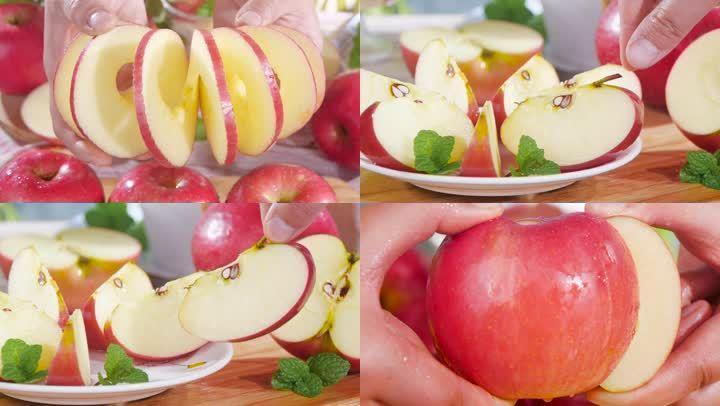apple: (427, 207, 642, 397), (51, 19, 327, 166), (593, 217, 692, 397), (181, 242, 317, 342), (497, 82, 647, 167), (394, 13, 544, 91), (271, 232, 359, 364), (3, 225, 145, 302), (106, 268, 211, 362), (359, 95, 476, 171), (81, 263, 154, 346), (1, 147, 107, 204), (408, 37, 479, 116), (310, 72, 362, 169), (223, 161, 339, 204), (7, 248, 69, 326), (109, 166, 219, 202), (464, 95, 506, 180), (49, 307, 93, 387)
